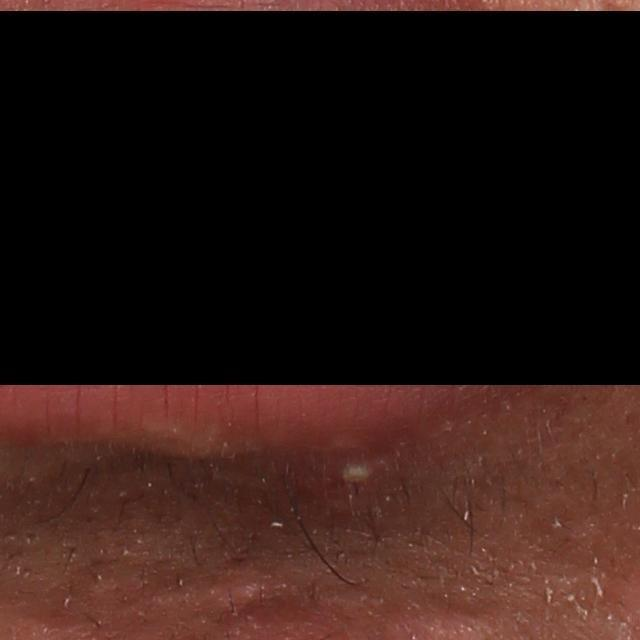pustule: (331, 462, 389, 492)
